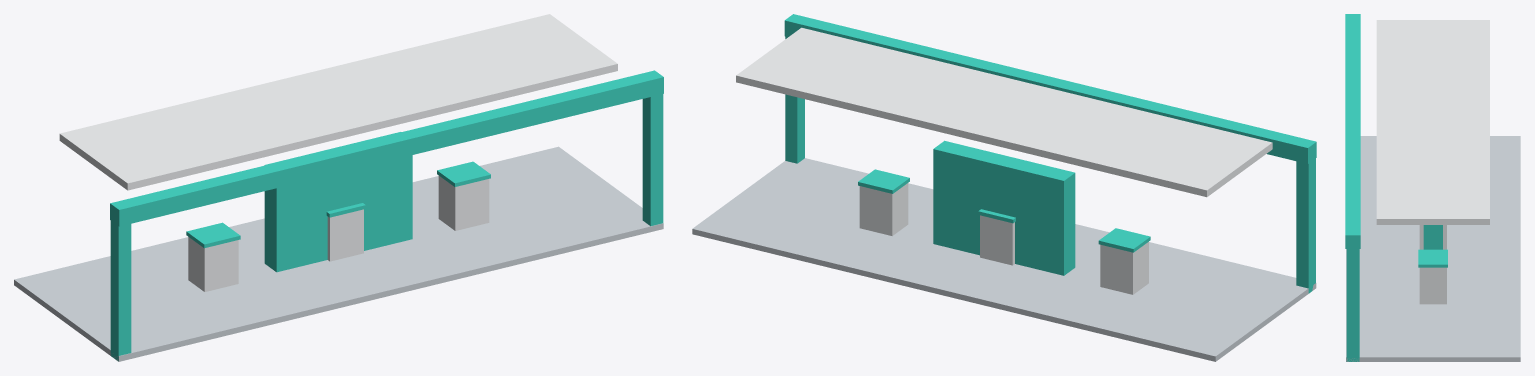
3 renders of one model, left to right at view 1: azimuth 30°, elevation 25°; view 2: azimuth 150°, elevation 25°; view 3: azimuth 270°, elevation 25°, orthographic. The views are drawn at different scales.
Parts seen in each view (by area): view 1: Exhibition Booth Concept; view 2: Exhibition Booth Concept; view 3: Exhibition Booth Concept.
Boxes of the visible parts, <box> form: Exhibition Booth Concept: <box>14,14,663,361</box>; Exhibition Booth Concept: <box>692,14,1316,361</box>; Exhibition Booth Concept: <box>1345,14,1520,361</box>.
Size of the model in its own units: 12 by 3.34 by 4.02.
